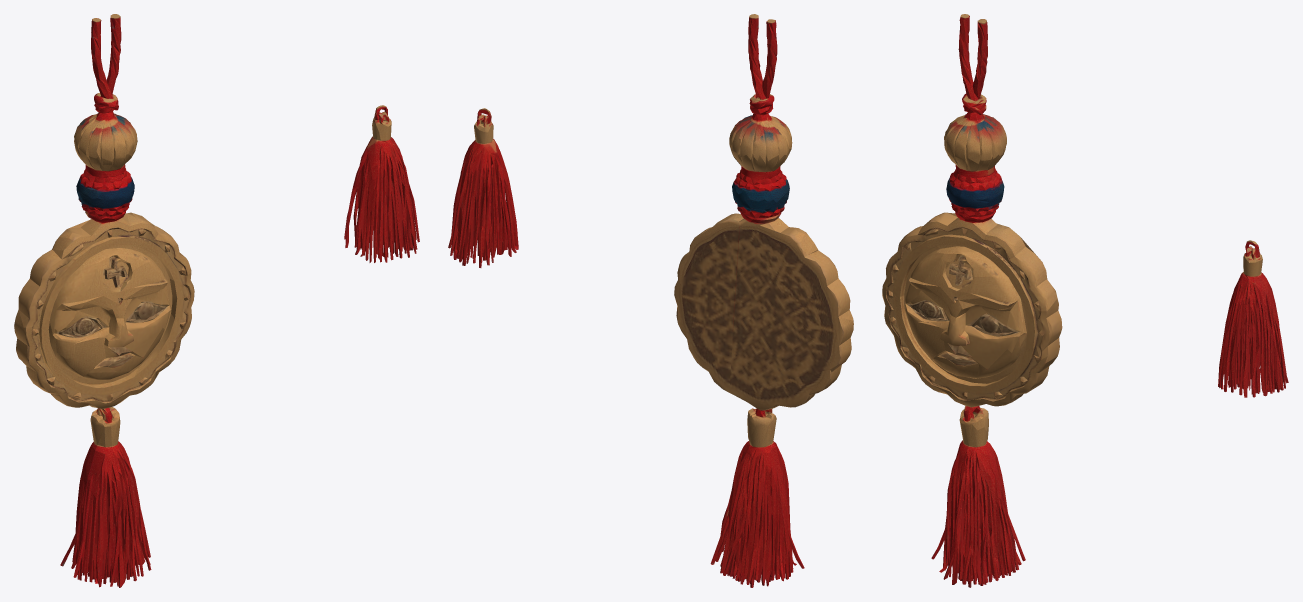
The model's file is ITM_VILLAGE_SEAL_001.glb.
3 views of the same model, side by side, from view 1: azimuth 30°, elevation 25°; view 2: azimuth 150°, elevation 25°; view 3: azimuth 330°, elevation 25° (orthographic).
Bounding box in the file's own units: 1.41 × 1.91 × 0.2579.
1 material, 1 textured.
